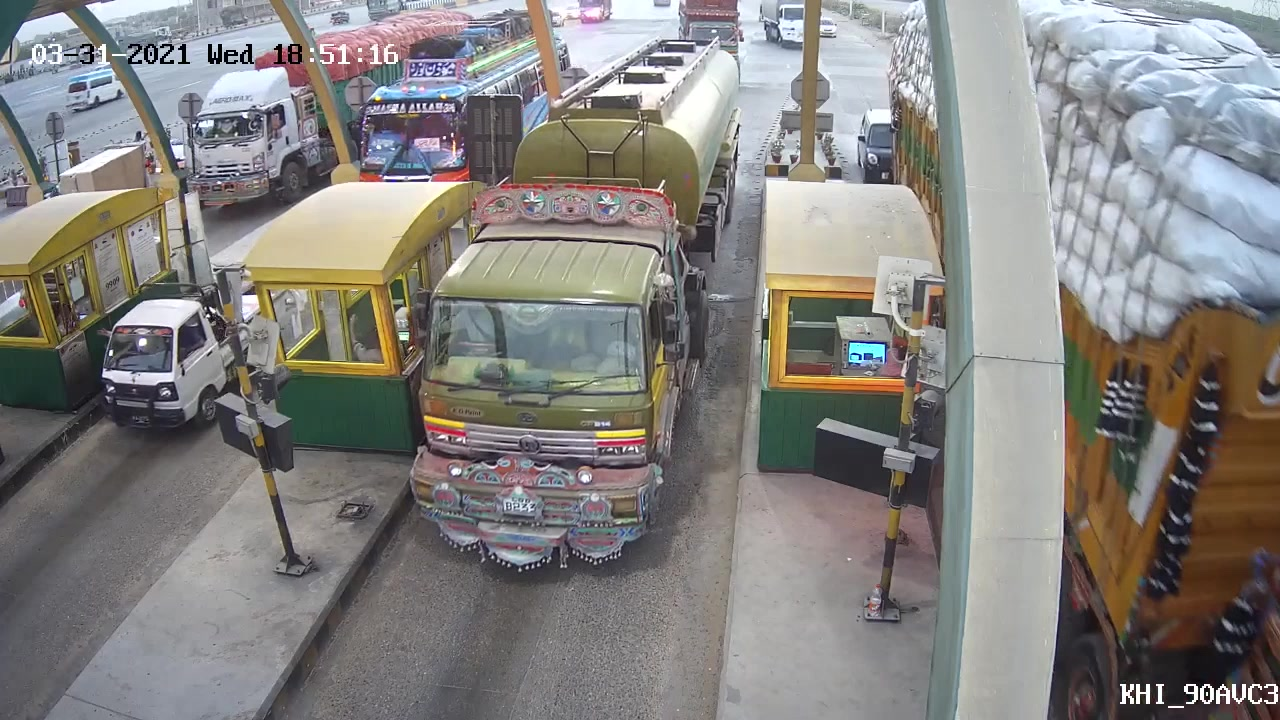F6: (402, 34, 759, 580)
